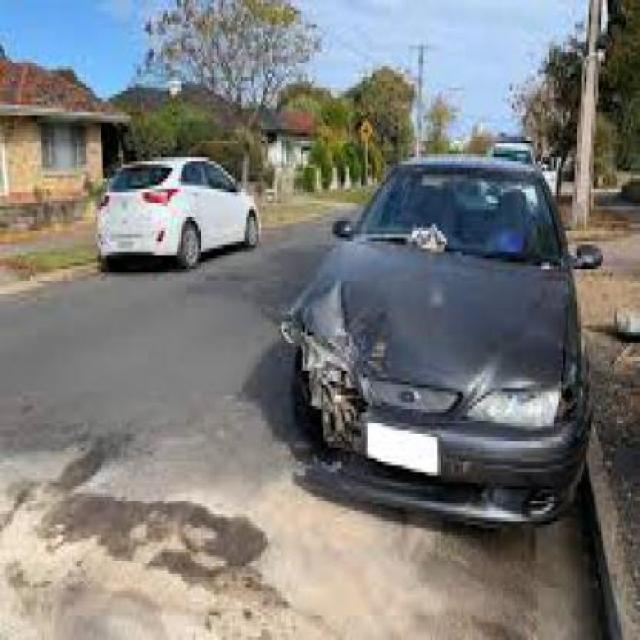damaged-front-bumper: (288, 400, 590, 528)
